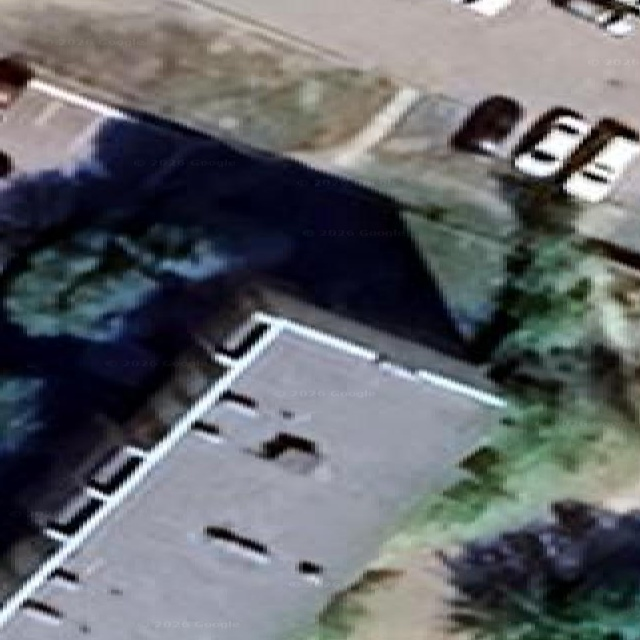car: (563, 120, 639, 200), (513, 108, 590, 176), (449, 96, 523, 154), (552, 0, 635, 35), (0, 57, 31, 111), (451, 0, 511, 16), (599, 11, 635, 35), (615, 0, 639, 15), (0, 151, 12, 176)
